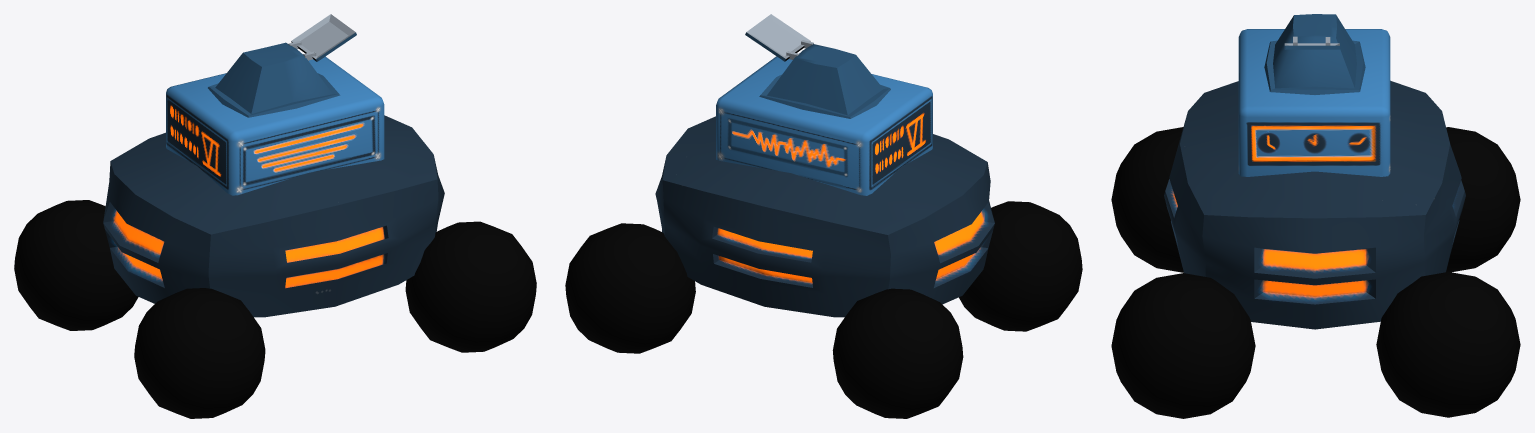
Rendered from robot-actualizado-sin-conductor.fbx.
The picture shows the model from 3 angles, left to right: view 1: azimuth 30°, elevation 25°; view 2: azimuth 150°, elevation 25°; view 3: azimuth 270°, elevation 25°; orthographic projection. The views are drawn at different scales.
Visible parts, largest first — view 1: robot; view 2: robot; view 3: robot.
Part boxes in pixels (box(x1,y1,x2,y2)): robot: box(14, 14, 536, 418); robot: box(565, 14, 1082, 418); robot: box(1111, 14, 1520, 418).
Bounding box in the file's own units: 571 × 422 × 476.
